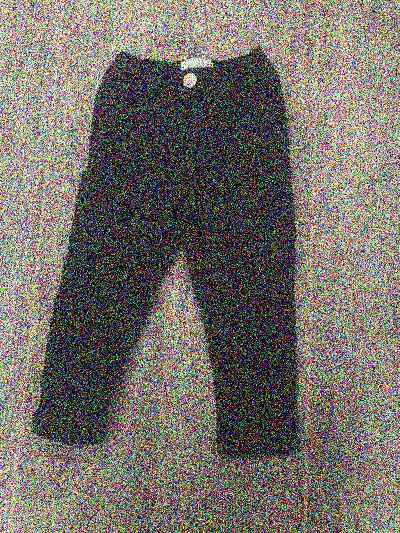Pants: (15, 25, 339, 480)
